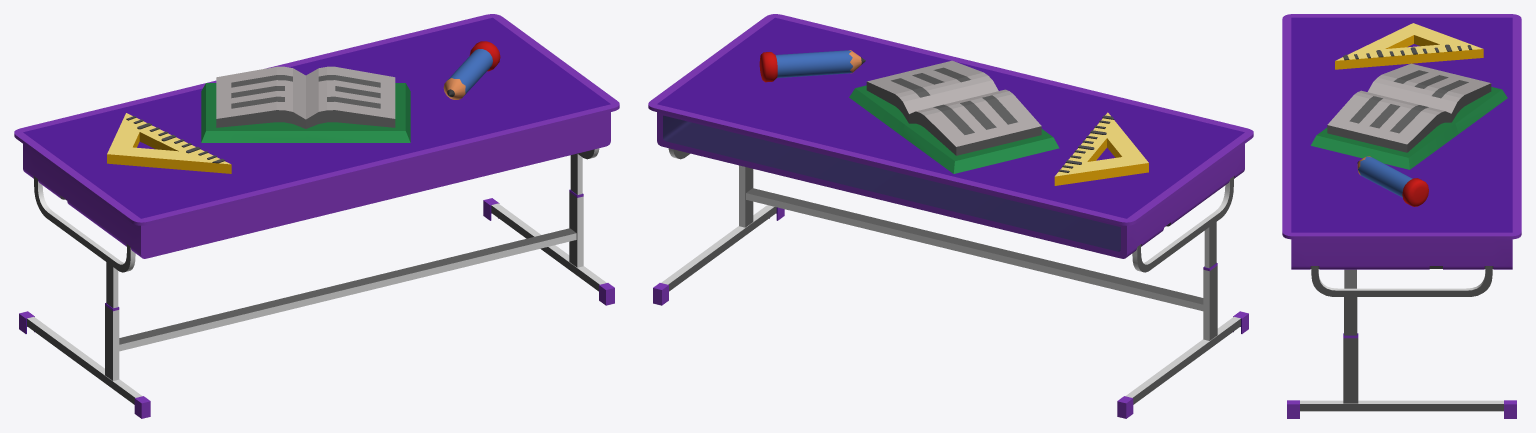
File: Techer Table LEVEL-3-2.fbx
The picture shows the model from 3 angles, left to right: view 1: azimuth 30°, elevation 25°; view 2: azimuth 150°, elevation 25°; view 3: azimuth 270°, elevation 25°; orthographic projection. The views are drawn at different scales.
Visible parts, largest first — view 1: Techer Table LEVEL-3-2; view 2: Techer Table LEVEL-3-2; view 3: Techer Table LEVEL-3-2.
Boxes of the visible parts, bbox=[...] form: Techer Table LEVEL-3-2: bbox=[14, 14, 619, 418]; Techer Table LEVEL-3-2: bbox=[648, 14, 1253, 418]; Techer Table LEVEL-3-2: bbox=[1282, 14, 1521, 418].
Bounding box in the file's own units: 13.99 × 6.23 × 6.36.
